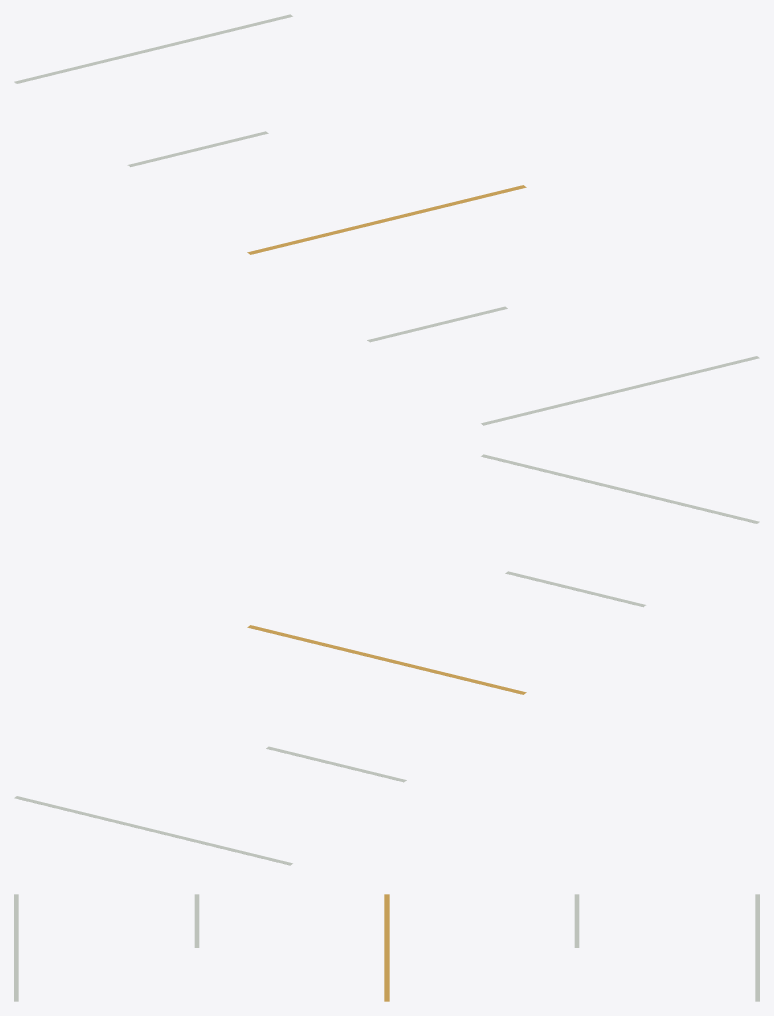
File: RoadPlan_Marking_4L_L4.glb
3 views of the same model, one above another, from view 1: azimuth 30°, elevation 25°; view 2: azimuth 150°, elevation 25°; view 3: azimuth 270°, elevation 25° (orthographic). The views are drawn at different scales.
Visible parts, largest first — view 1: RoadPlan_Marking_4L_L4_Center, RoadPlan_Marking_4L_L4_EdgeRight, RoadPlan_Marking_4L_L4_EdgeLeft; view 2: RoadPlan_Marking_4L_L4_Center, RoadPlan_Marking_4L_L4_EdgeRight, RoadPlan_Marking_4L_L4_EdgeLeft; view 3: RoadPlan_Marking_4L_L4_Center, RoadPlan_Marking_4L_L4_EdgeRight, RoadPlan_Marking_4L_L4_EdgeLeft, RoadPlan_Marking_4L_L4_LaneRight, RoadPlan_Marking_4L_L4_LaneLeft.
Boxes of the visible parts, x1,y1,x2,y2 form: RoadPlan_Marking_4L_L4_Center: (247,185,526,254); RoadPlan_Marking_4L_L4_EdgeRight: (481,356,759,425); RoadPlan_Marking_4L_L4_EdgeLeft: (14,14,292,83); RoadPlan_Marking_4L_L4_Center: (247,625,526,694); RoadPlan_Marking_4L_L4_EdgeRight: (481,454,759,523); RoadPlan_Marking_4L_L4_EdgeLeft: (14,796,292,865); RoadPlan_Marking_4L_L4_Center: (384,894,389,1001); RoadPlan_Marking_4L_L4_EdgeRight: (14,894,18,1001); RoadPlan_Marking_4L_L4_EdgeLeft: (755,894,759,1001); RoadPlan_Marking_4L_L4_LaneRight: (194,894,199,947); RoadPlan_Marking_4L_L4_LaneLeft: (574,894,579,947).
Size of the model in its own units: 4 by 0.0007 by 11.77.
